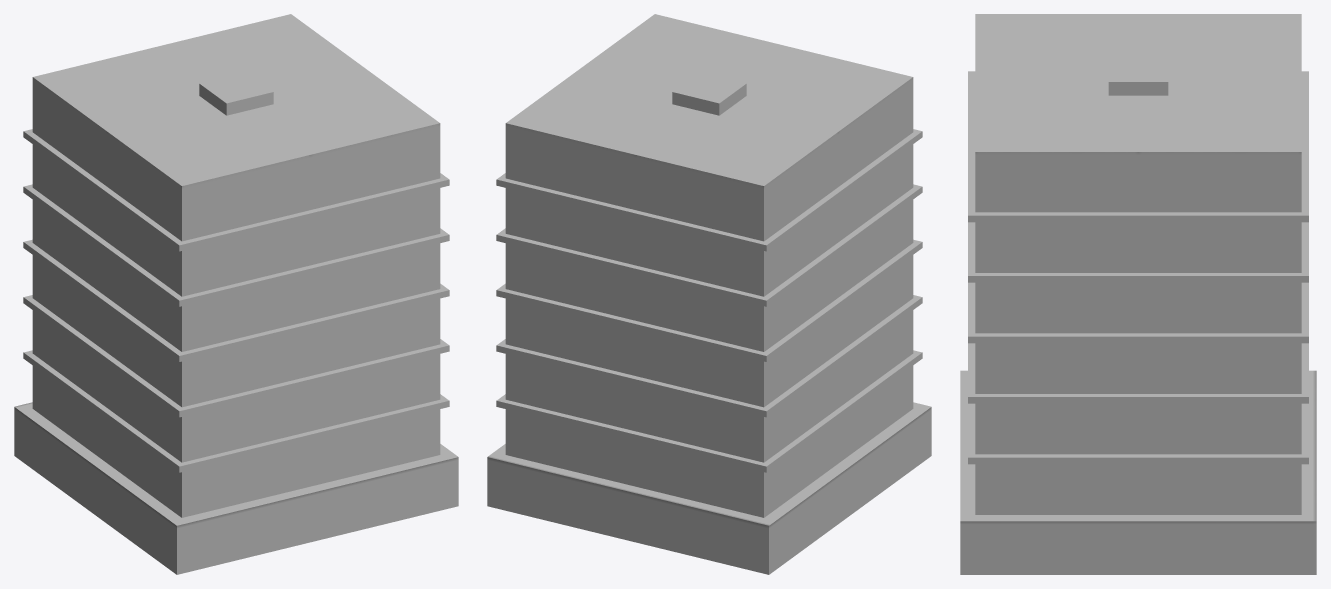
The model's file is big_steam_boiler.obj.
3 views of the same model, side by side, from view 1: azimuth 30°, elevation 25°; view 2: azimuth 150°, elevation 25°; view 3: azimuth 270°, elevation 25° (orthographic). The views are drawn at different scales.
Visible parts, largest first — view 1: Object_32_4_0, Object_14_2_0, Object_14_30_0, Object_14_31_0, Object_14_27_0, Object_14_28_0, Object_14_29_0, Object_14_25_0, Object_14_26_0, Object_14_24_0, Object_14_0_0, Object_31_11_0 (+10 smaller); view 2: Object_32_4_0, Object_14_2_0, Object_14_30_0, Object_14_31_0, Object_14_27_0, Object_14_28_0, Object_14_29_0, Object_14_24_0, Object_14_0_0, Object_14_25_0, Object_14_26_0, Object_31_13_0 (+10 smaller); view 3: Object_32_4_0, Object_14_2_0, Object_14_28_0, Object_14_30_0, Object_14_27_0, Object_14_29_0, Object_14_31_0, Object_14_0_0, Object_14_26_0, Object_14_24_0, Object_14_25_0, Object_23_3_0 (+11 smaller).
Boxes of the visible parts, x1,y1,x2,y2 form: Object_32_4_0: (14,402,458,574); Object_14_2_0: (32,77,440,241); Object_14_30_0: (32,310,440,462); Object_14_31_0: (32,365,440,517); Object_14_27_0: (32,144,440,296); Object_14_28_0: (32,200,440,351); Object_14_29_0: (32,255,440,407); Object_14_25_0: (108,106,310,185); Object_14_26_0: (250,68,439,154); Object_14_24_0: (33,45,212,131); Object_14_0_0: (162,14,365,91); Object_31_11_0: (176,344,443,417); Object_32_4_0: (487,402,931,574); Object_14_2_0: (505,77,913,241); Object_14_30_0: (505,310,913,462); Object_14_31_0: (505,365,913,517); Object_14_27_0: (505,144,913,296); Object_14_28_0: (505,200,913,351); Object_14_29_0: (505,255,913,407); Object_14_24_0: (635,106,837,185); Object_14_0_0: (506,68,695,154); Object_14_25_0: (733,45,912,131); Object_14_26_0: (580,14,783,91); Object_31_13_0: (496,287,763,360); Object_32_4_0: (960,370,1316,574); Object_14_2_0: (975,152,1301,212); Object_14_28_0: (975,282,1301,333); Object_14_30_0: (975,403,1301,454); Object_14_27_0: (975,222,1301,272); Object_14_29_0: (975,343,1301,393); Object_14_31_0: (975,464,1301,514); Object_14_0_0: (1138,83,1301,151); Object_14_26_0: (975,83,1138,151); Object_14_24_0: (1138,14,1301,82); Object_14_25_0: (975,14,1138,82); Object_23_3_0: (968,454,1301,464).
Bounding box in the file's own units: 3 × 4 × 3.
